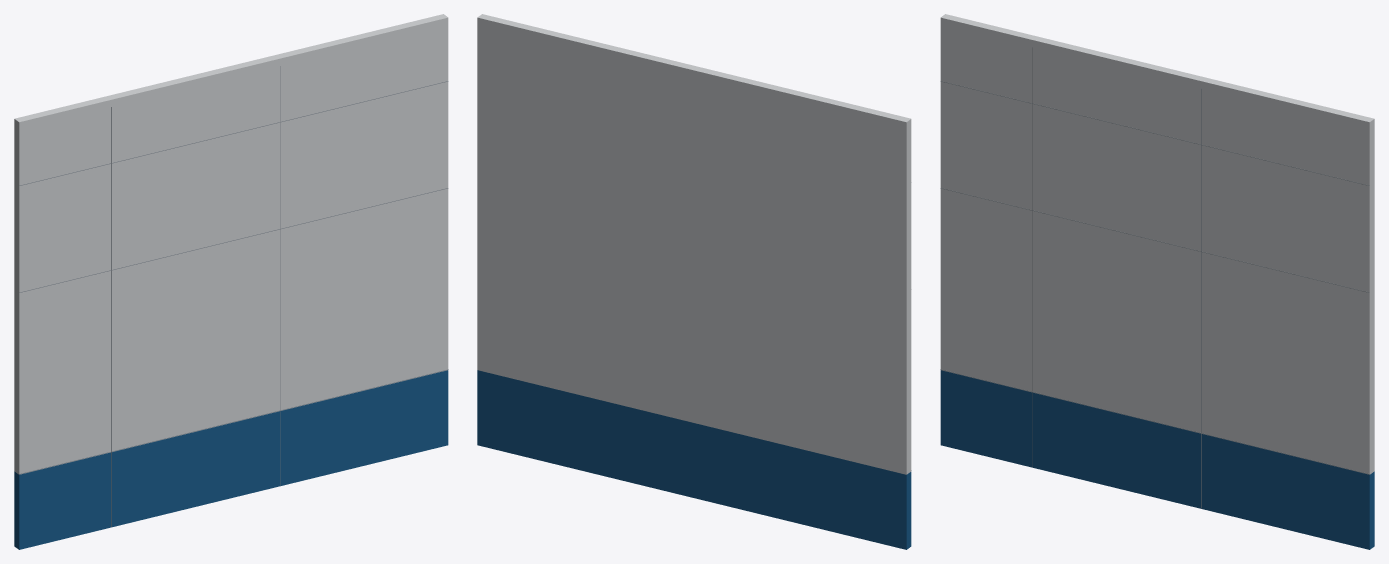
Rendered from SM_MPR3_Facade_10.fbx.
The picture shows the model from 3 angles, left to right: view 1: azimuth 30°, elevation 25°; view 2: azimuth 150°, elevation 25°; view 3: azimuth 330°, elevation 25°; orthographic projection.
Parts seen in each view (by area): view 1: SM_MPR3_Facade_10; view 2: SM_MPR3_Facade_10; view 3: SM_MPR3_Facade_10.
Boxes of the visible parts, x1,y1,x2,y2 form: SM_MPR3_Facade_10: [14, 14, 448, 549]; SM_MPR3_Facade_10: [477, 14, 911, 549]; SM_MPR3_Facade_10: [940, 14, 1374, 549].
Size of the model in its own units: 1554 by 31.44 by 1480.
